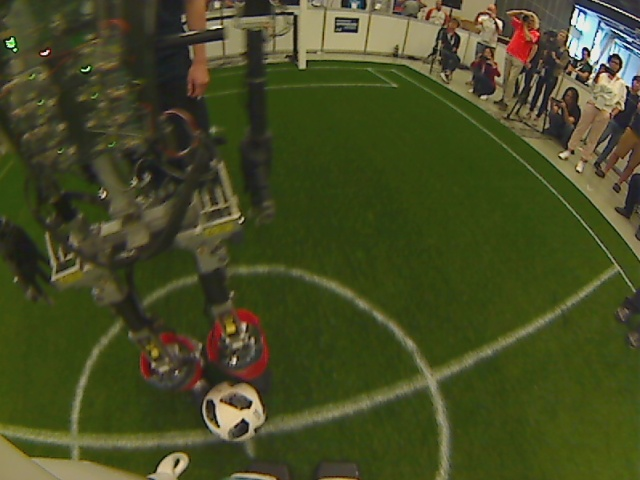ball: (200, 385, 268, 447)
goalpost: (286, 51, 318, 81)
robot: (132, 301, 271, 382)
